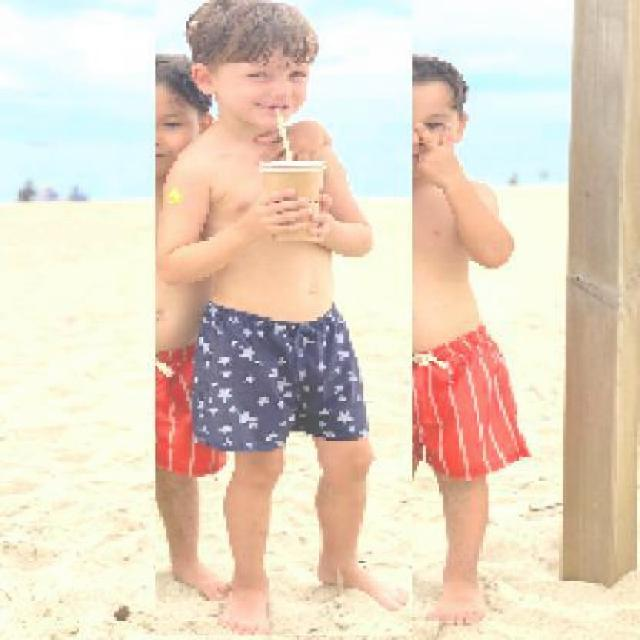child: (154, 0, 412, 637), (337, 55, 534, 628)
